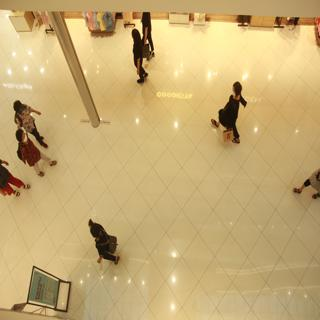person: (83, 214, 131, 272), (217, 72, 250, 153), (13, 125, 54, 187), (119, 25, 155, 85), (7, 91, 47, 138)
